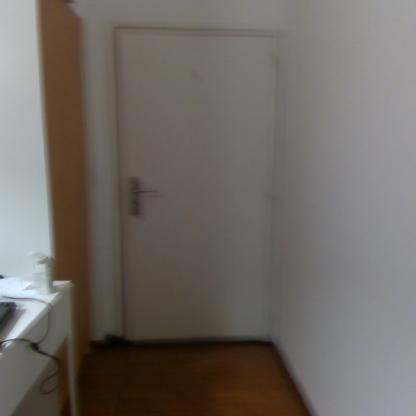door: (117, 29, 271, 340)
lever: (132, 186, 160, 196)
